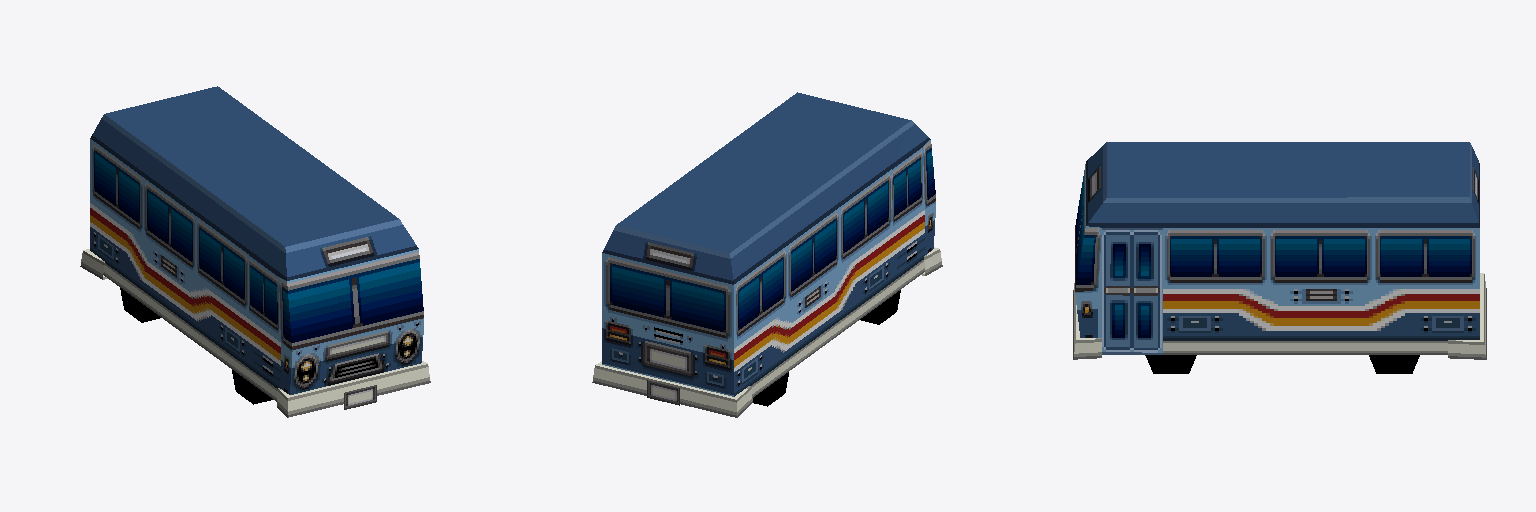
3 renders of one model, left to right at view 1: azimuth 30°, elevation 25°; view 2: azimuth 150°, elevation 25°; view 3: azimuth 270°, elevation 25°, orthographic.
Size of the model in its own units: 2.91 by 3.32 by 7.28.
1 materials, 1 textured.